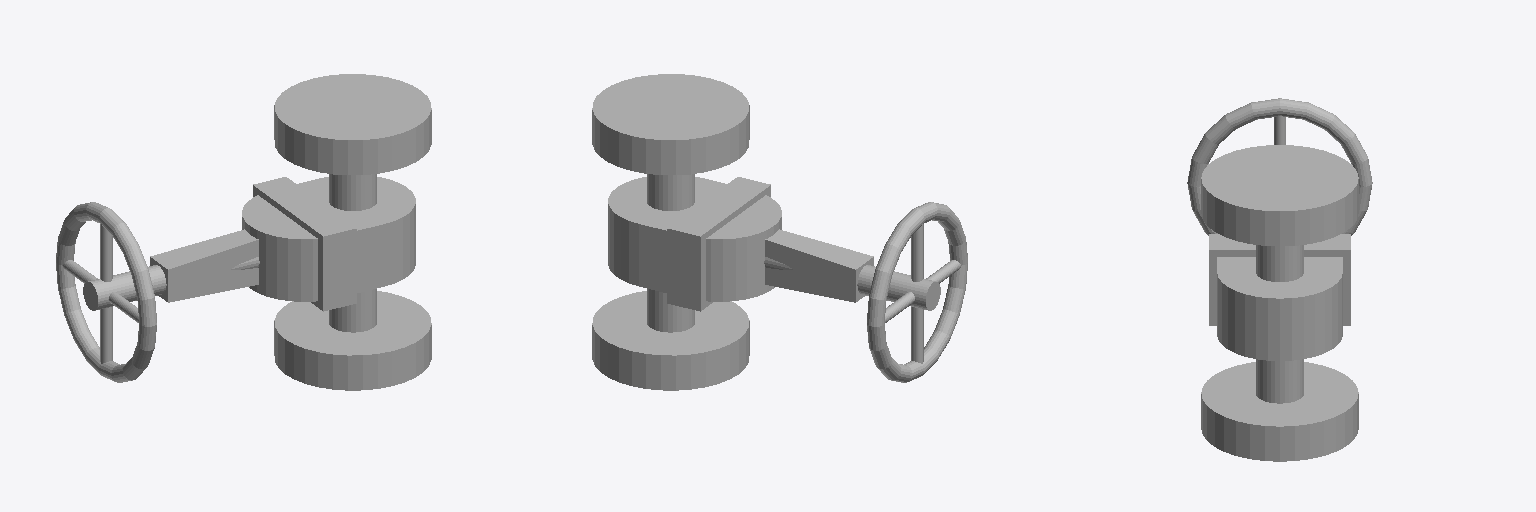
3 views of the same model, side by side, from view 1: azimuth 30°, elevation 25°; view 2: azimuth 150°, elevation 25°; view 3: azimuth 270°, elevation 25° (orthographic).
Parts seen in each view (by area): view 1: /20-2006PL_Mesh.002; view 2: /20-2006PL_Mesh.002; view 3: /20-2006PL_Mesh.002.
Part boxes in pixels (left/top/right/bottom): /20-2006PL_Mesh.002: left=56, top=74, right=431, bottom=390; /20-2006PL_Mesh.002: left=592, top=74, right=967, bottom=390; /20-2006PL_Mesh.002: left=1187, top=98, right=1372, bottom=461.
Bounding box in the file's own units: 0.315 × 0.228 × 0.153.